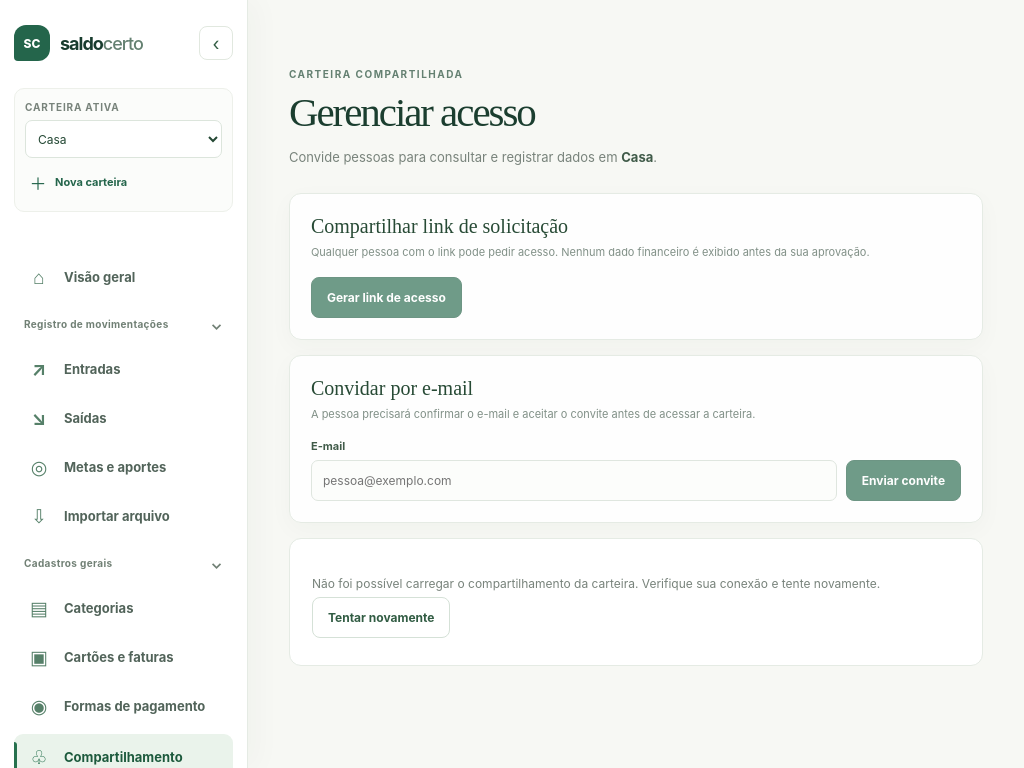
Test case: wallet sharing management › shows a retry action when the invitation list fails to load
Expected: the message shows "Não foi possível carregar o compartilhamento da carteira.", [312,576,880,591]
Expected: the text "Não há convites pendentes." is not shown
Click the button "Tentar novamente": (381, 617) [312,597,450,638]
(page scrolled)
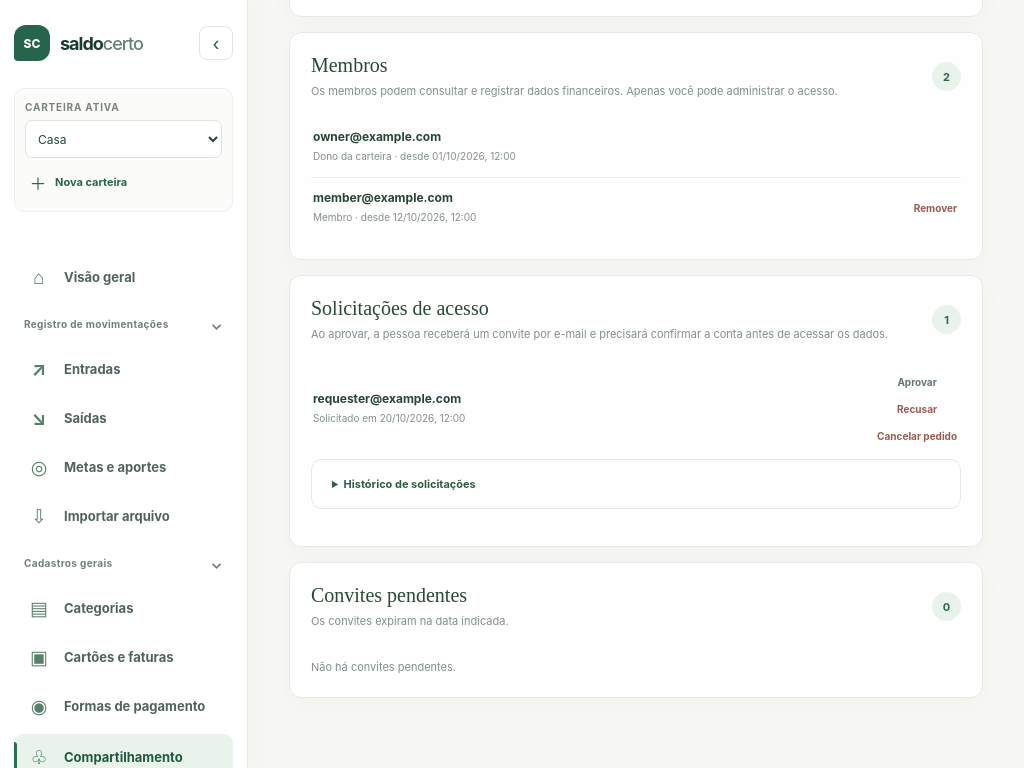
Result: the text "Não há convites pendentes." is shown at [311,660,456,674]
